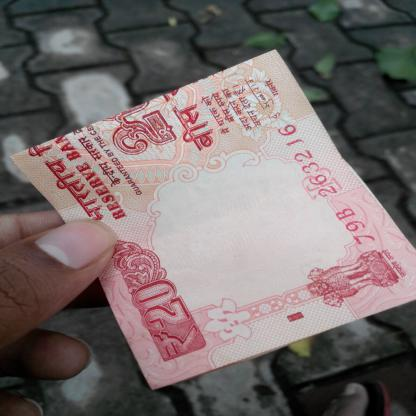Old20Front: (33, 59, 401, 358)
